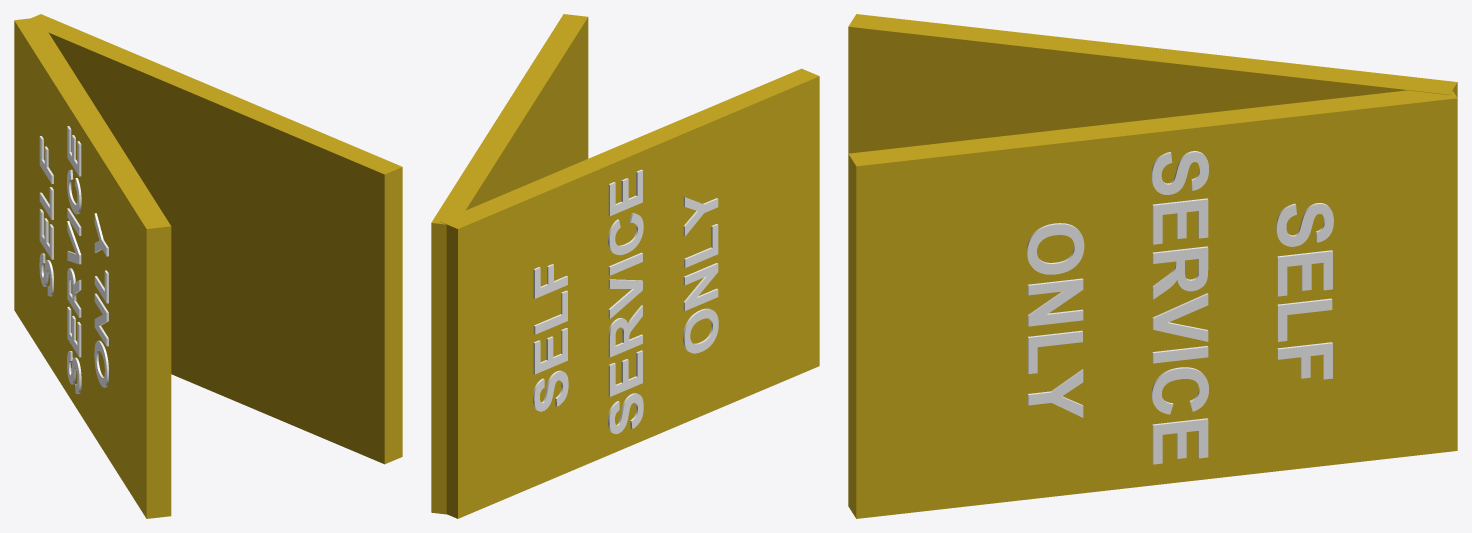
File: 10 Signboard_6_1.FBX
3 views of the same model, side by side, from view 1: azimuth 30°, elevation 25°; view 2: azimuth 150°, elevation 25°; view 3: azimuth 270°, elevation 25° (orthographic). The views are drawn at different scales.
Visible parts, largest first — view 1: Small_board; view 2: Small_board; view 3: Small_board.
Part boxes in pixels (x1,y1,x2,y2): Small_board: (14,14,402,518); Small_board: (431,14,819,518); Small_board: (848,14,1457,518).
Size of the model in its own units: 231 by 250 by 392.
